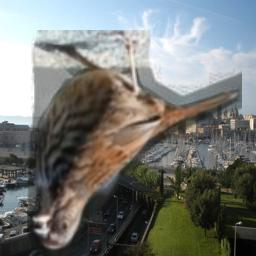Sparrow: (27, 30, 242, 256)
